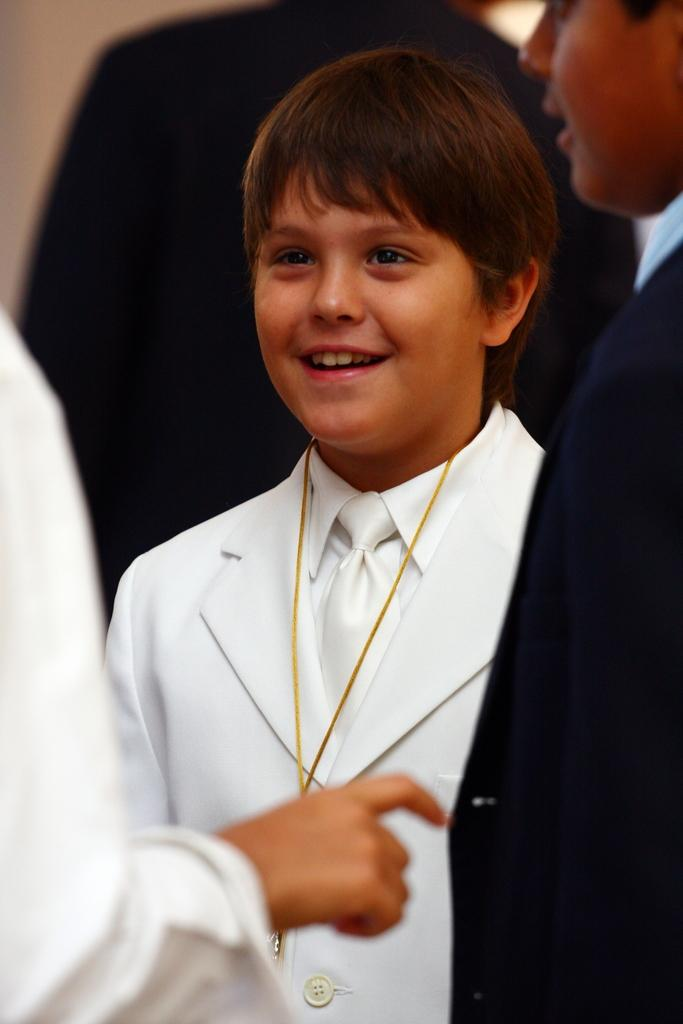no_helmet: (234, 36, 536, 426)
none: (174, 426, 500, 988)
